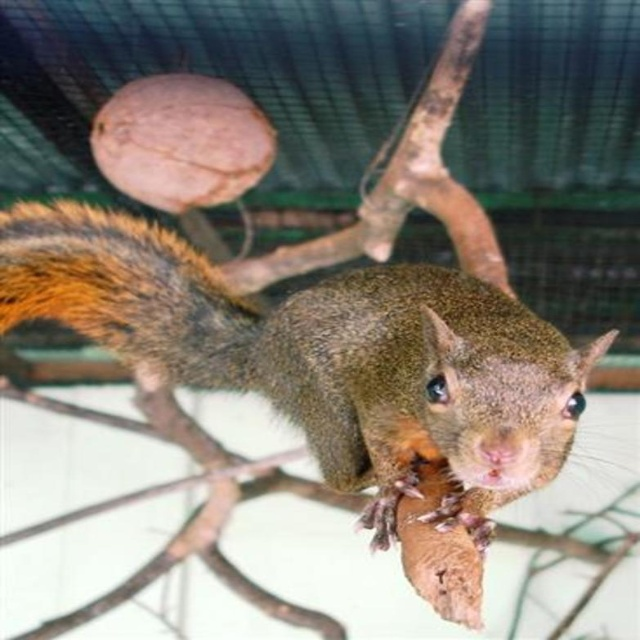Squirrel: (0, 197, 619, 552)
